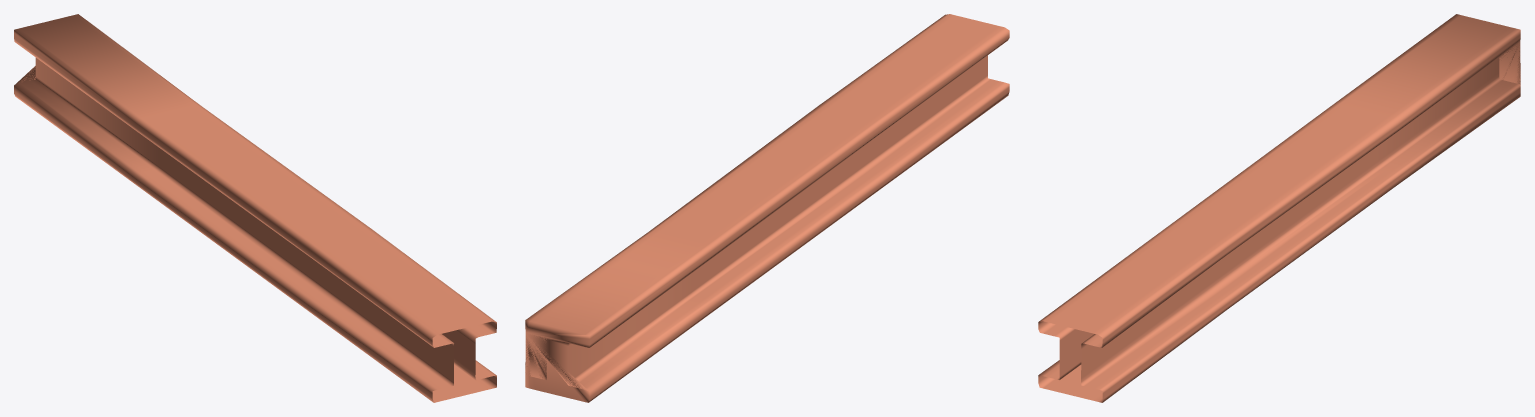
The model's file is Industrial_New_Beams_1.fbx.
3 views of the same model, side by side, from view 1: azimuth 30°, elevation 25°; view 2: azimuth 150°, elevation 25°; view 3: azimuth 330°, elevation 25° (orthographic).
Parts seen in each view (by area): view 1: NurbsPath.031; view 2: NurbsPath.031; view 3: NurbsPath.031.
Part boxes in pixels (x1,y1,x2,y2): NurbsPath.031: (14,14,496,402); NurbsPath.031: (525,14,1009,402); NurbsPath.031: (1038,14,1520,402).
Size of the model in its own units: 25 by 25 by 282.
